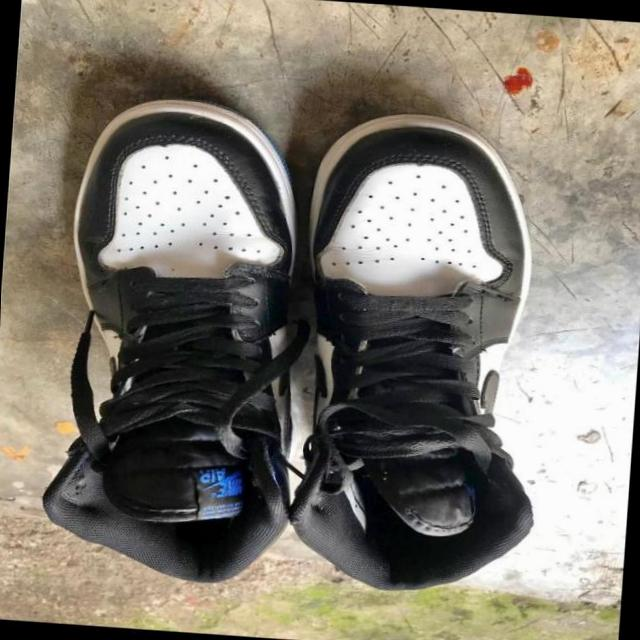nike_fake_jordan: (31, 84, 324, 590), (281, 107, 564, 604)
